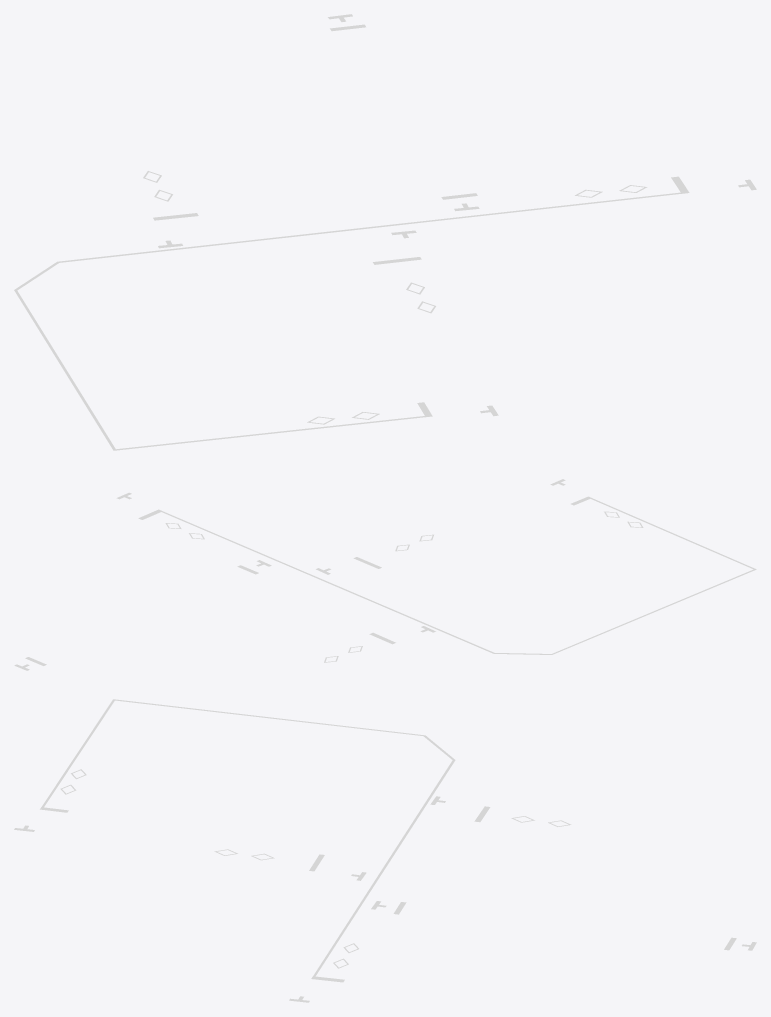
The model's file is kd_stage_136599_1_0_bounded.glb.
3 views of the same model, one above another, from view 1: azimuth 30°, elevation 25°; view 2: azimuth 150°, elevation 25°; view 3: azimuth 270°, elevation 25° (orthographic). The views are drawn at different scales.
Parts seen in each view (by area): view 1: kd_stage_136599_1_0_bounded; view 2: kd_stage_136599_1_0_bounded; view 3: kd_stage_136599_1_0_bounded.
Boxes of the visible parts, x1=… form: kd_stage_136599_1_0_bounded: x1=14, y1=14, x2=756, y2=450; kd_stage_136599_1_0_bounded: x1=14, y1=479, x2=756, y2=670; kd_stage_136599_1_0_bounded: x1=14, y1=699, x2=756, y2=1002.
Bounding box in the file's own units: 57.97 × 0 × 59.96.
Materials: 1 (1 with a texture image).
